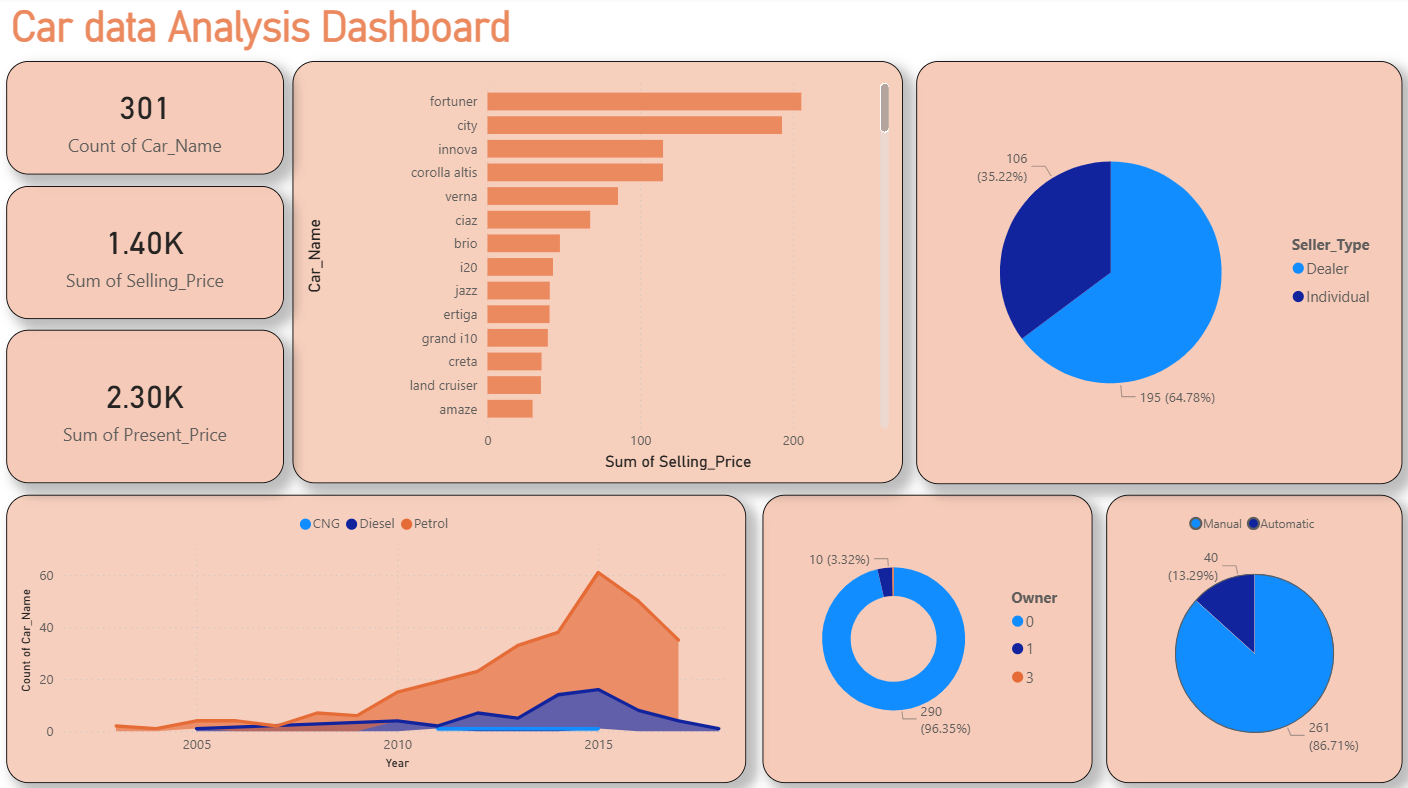

What the dashboard file says about the page in this screenshot:
{"tool":"powerbi","page":{"name":"Page 1","canvas":[1280,720],"ordinal":0},"visuals":[{"type":"textbox","box":[10,0,492.5,58.8],"z":0},{"type":"donutChart","fields":{"Category":["in.Owner"],"Y":["CountNonNull(in.Owner)"]},"box":[692.5,450,297.5,260],"z":1000},{"type":"pieChart","fields":{"Category":["in.Transmission"],"Y":["CountNonNull(in.Transmission)"]},"box":[1002.5,450,267.5,260],"z":2000},{"type":"clusteredBarChart","fields":{"Category":["in.Car_Name"],"Y":["Sum(in.Selling_Price)"]},"box":[268.2,58.2,550,380.9],"z":3000},{"type":"pieChart","fields":{"Category":["in.Seller_Type"],"Y":["CountNonNull(in.Seller_Type)"]},"box":[831.2,58.8,438.8,381.2],"z":4000},{"type":"stackedAreaChart","fields":{"Category":["in.Year"],"Y":["CountNonNull(in.Car_Name)"],"Series":["in.Fuel_Type"]},"box":[10,450,667.5,260],"z":5000},{"type":"card","fields":{"Values":["CountNonNull(in.Car_Name)"]},"box":[10,58.8,250,102.5],"z":6000},{"type":"card","fields":{"Values":["Sum(in.Selling_Price)"]},"box":[10,171.2,250,120],"z":7000},{"type":"card","fields":{"Values":["Sum(in.Present_Price)"]},"box":[10,301.2,250,138.8],"z":8000}]}

Visuals, with their boxes in screenshot pixels (x1, y1, x2, y2), scaled from the page's 1280x720 canvas onto the 1408x788 screenshot:
textbox: x1=11, y1=0, x2=553, y2=64
donutChart - in.Owner x CountNonNull(in.Owner): x1=762, y1=493, x2=1089, y2=777
pieChart - in.Transmission x CountNonNull(in.Transmission): x1=1103, y1=493, x2=1397, y2=777
clusteredBarChart - in.Car_Name x Sum(in.Selling_Price): x1=295, y1=64, x2=900, y2=481
pieChart - in.Seller_Type x CountNonNull(in.Seller_Type): x1=914, y1=64, x2=1397, y2=482
stackedAreaChart - in.Year x CountNonNull(in.Car_Name): x1=11, y1=493, x2=745, y2=777
card - CountNonNull(in.Car_Name): x1=11, y1=64, x2=286, y2=177
card - Sum(in.Selling_Price): x1=11, y1=187, x2=286, y2=319
card - Sum(in.Present_Price): x1=11, y1=330, x2=286, y2=482
